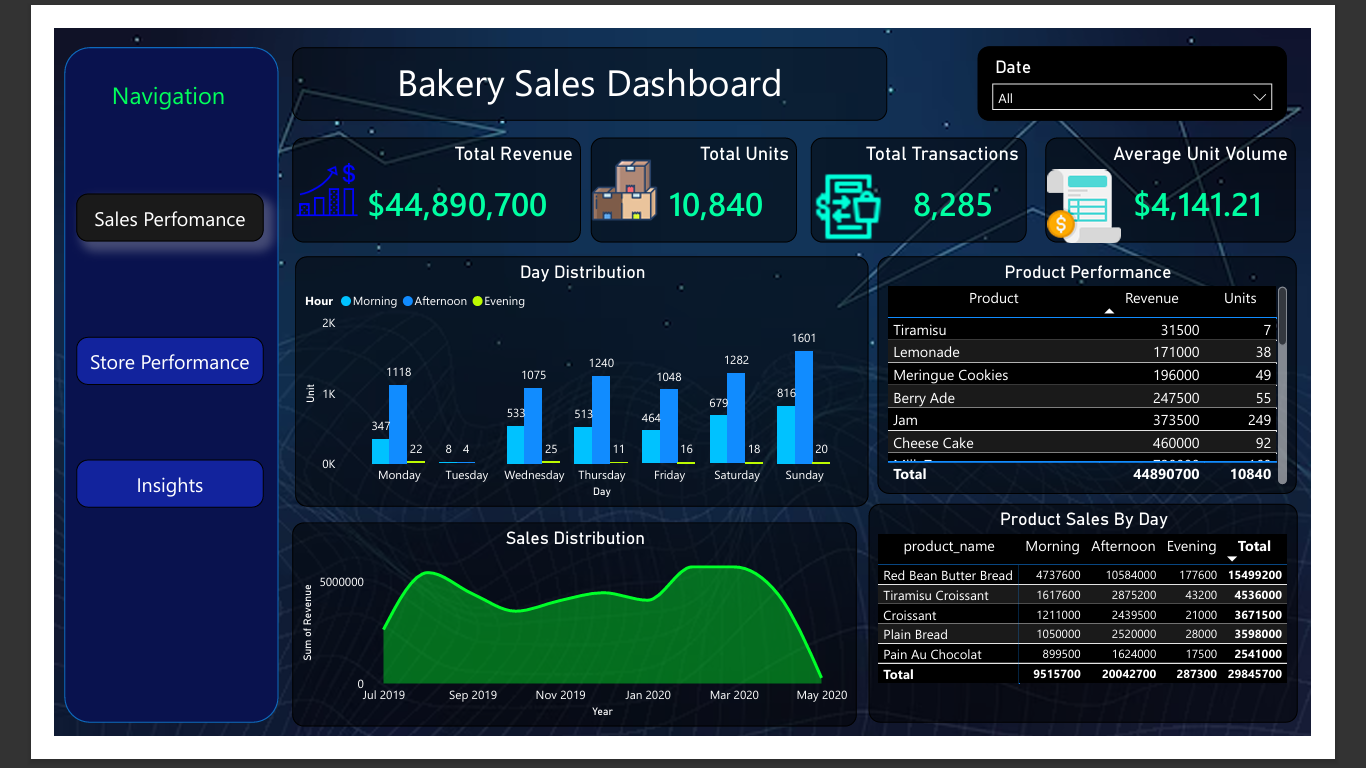

Layout of this report page (visuals, bound fields, positions):
{"tool":"powerbi","page":{"name":"Sales Performance","canvas":[1280,720],"ordinal":0},"visuals":[{"type":"shape","box":[10.1,18.7,217.4,688.3],"z":0},{"type":"cardVisual","title":"Total Revenue","fields":{"Data":["final_bakery_sales.Total Revenue"]},"box":[241.9,110.9,293.8,106.6],"z":0,"group":"g1"},{"type":"cardVisual","title":"Total Units","fields":{"Data":["final_bakery_sales.Total Units"]},"box":[545.8,110.9,210.2,106.6],"z":0,"group":"g2"},{"type":"cardVisual","title":"Average Unit Volume","fields":{"Data":["final_bakery_sales.Average Order Vlue"]},"box":[1009.5,110.9,254.9,106.6],"z":0,"group":"g3"},{"type":"cardVisual","title":"Total Transactions","fields":{"Data":["final_bakery_sales.Total Transactions"]},"box":[770.4,110.9,220.3,106.6],"z":9,"group":"g4"},{"type":"image","box":[769.3,144.2,77.8,74.9],"z":14,"group":"g4"},{"type":"image","box":[241.9,110.9,70.6,106.6],"z":1000,"group":"g1"},{"type":"image","box":[545.8,110.9,69.1,106.6],"z":1000,"group":"g2"},{"type":"image","box":[1009.1,144.2,79.2,74.9],"z":1000,"group":"g3"},{"type":"actionButton","box":[21.6,168.5,191.5,49],"z":1000},{"type":"actionButton","box":[21.6,313.9,191.5,49],"z":2000},{"type":"actionButton","box":[21.6,439.2,191.5,49],"z":3000},{"type":"textbox","box":[18.7,46.1,194.4,47.5],"z":4000},{"type":"textbox","box":[241.9,18.7,606.2,74.9],"z":5000},{"type":"slicer","fields":{"Values":["final_bakery_sales.transaction_time.Variation.Date Hierarchy.Year","final_bakery_sales.transaction_time.Variation.Date Hierarchy.Month"]},"box":[939.9,18.3,315.5,75.9],"z":6000},{"type":"group","id":"g1","title":"Group 1","box":[241.9,110.9,293.8,106.6],"z":7000},{"type":"group","id":"g2","title":"Group 2","box":[545.8,110.9,210.2,106.6],"z":8000},{"type":"group","id":"g3","title":"Group 3","box":[1009.1,110.9,255.2,108.2],"z":9000},{"type":"group","id":"g4","title":"Group 4","box":[769.3,110.9,221.4,108.2],"z":10000},{"type":"clusteredColumnChart","title":"Day Distribution","fields":{"Series":["final_bakery_sales.Hour"],"Y":["Sum(final_bakery_sales.quantity_sold)"],"Category":["final_bakery_sales.day_of_week"]},"box":[244.8,231.7,583.9,255.3],"z":11000},{"type":"lineChart","title":"Sales Distribution","fields":{"Y":["Sum(final_bakery_sales.Revenue)"],"Category":["final_bakery_sales.transaction_time.Variation.Date Hierarchy.Year","final_bakery_sales.transaction_time.Variation.Date Hierarchy.Month"]},"box":[242.2,502.7,574.7,208.1],"z":12000},{"type":"tableEx","title":"Product Performance","fields":{"Values":["final_bakery_sales.product_name","Sum(final_bakery_sales.Revenue)","Sum(final_bakery_sales.quantity_sold)"]},"box":[837.8,231.7,426.8,242.2],"z":13000},{"type":"pivotTable","title":"Product Sales By Day","fields":{"Rows":["final_bakery_sales.product_name"],"Columns":["final_bakery_sales.Hour"],"Values":["Sum(final_bakery_sales.Revenue)"]},"box":[828.7,484.4,437.2,222.5],"z":14000}]}

Visuals, with their boxes in screenshot pixels (x1, y1, x2, y2), scaled from the page's 1280x720 canvas onto the 1366x768 screenshot:
shape: {"x1": 11, "y1": 20, "x2": 243, "y2": 754}
"Total Revenue" cardVisual: {"x1": 258, "y1": 118, "x2": 572, "y2": 232}
"Total Units" cardVisual: {"x1": 582, "y1": 118, "x2": 807, "y2": 232}
"Average Unit Volume" cardVisual: {"x1": 1077, "y1": 118, "x2": 1349, "y2": 232}
"Total Transactions" cardVisual: {"x1": 822, "y1": 118, "x2": 1057, "y2": 232}
image: {"x1": 821, "y1": 154, "x2": 904, "y2": 234}
image: {"x1": 258, "y1": 118, "x2": 333, "y2": 232}
image: {"x1": 582, "y1": 118, "x2": 656, "y2": 232}
image: {"x1": 1077, "y1": 154, "x2": 1161, "y2": 234}
actionButton: {"x1": 23, "y1": 180, "x2": 227, "y2": 232}
actionButton: {"x1": 23, "y1": 335, "x2": 227, "y2": 387}
actionButton: {"x1": 23, "y1": 468, "x2": 227, "y2": 521}
textbox: {"x1": 20, "y1": 49, "x2": 227, "y2": 100}
textbox: {"x1": 258, "y1": 20, "x2": 905, "y2": 100}
slicer - final_bakery_sales.transaction_time.Variation.Date Hierarchy.Year x final_bakery_sales.transaction_time.Variation.Date Hierarchy.Month: {"x1": 1003, "y1": 20, "x2": 1340, "y2": 100}
"Group 1" group: {"x1": 258, "y1": 118, "x2": 572, "y2": 232}
"Group 2" group: {"x1": 582, "y1": 118, "x2": 807, "y2": 232}
"Group 3" group: {"x1": 1077, "y1": 118, "x2": 1349, "y2": 234}
"Group 4" group: {"x1": 821, "y1": 118, "x2": 1057, "y2": 234}
"Day Distribution" clusteredColumnChart: {"x1": 261, "y1": 247, "x2": 884, "y2": 519}
"Sales Distribution" lineChart: {"x1": 258, "y1": 536, "x2": 872, "y2": 758}
"Product Performance" tableEx: {"x1": 894, "y1": 247, "x2": 1350, "y2": 505}
"Product Sales By Day" pivotTable: {"x1": 884, "y1": 517, "x2": 1351, "y2": 754}
